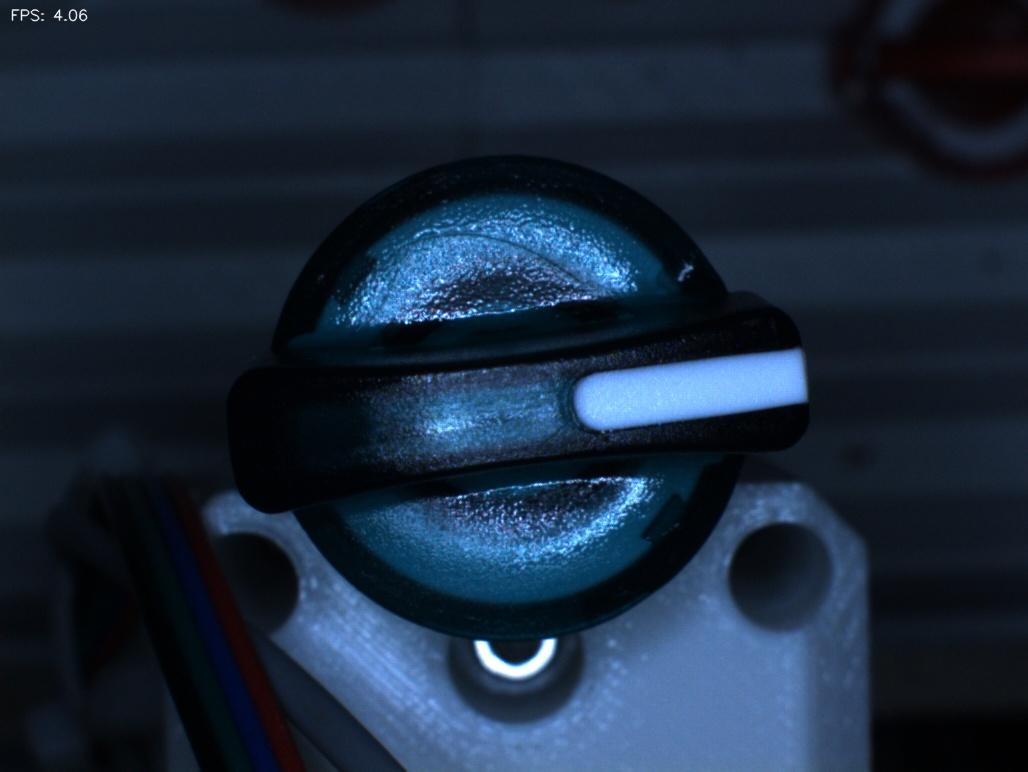Choc: (654, 226, 742, 313)
